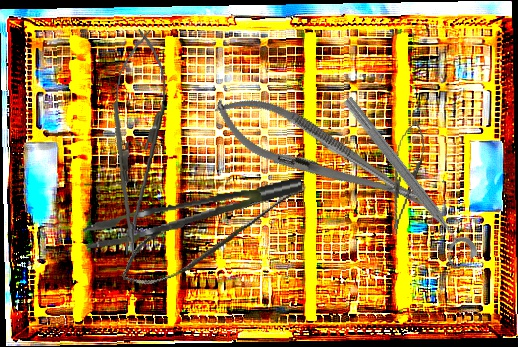Fixation Ring: (329, 92, 481, 273)
Micro Scissor: (110, 176, 320, 296)
Needle Holder: (204, 80, 436, 229), (102, 27, 171, 259), (380, 117, 430, 238)
Tissue Forceps: (79, 178, 307, 249)
